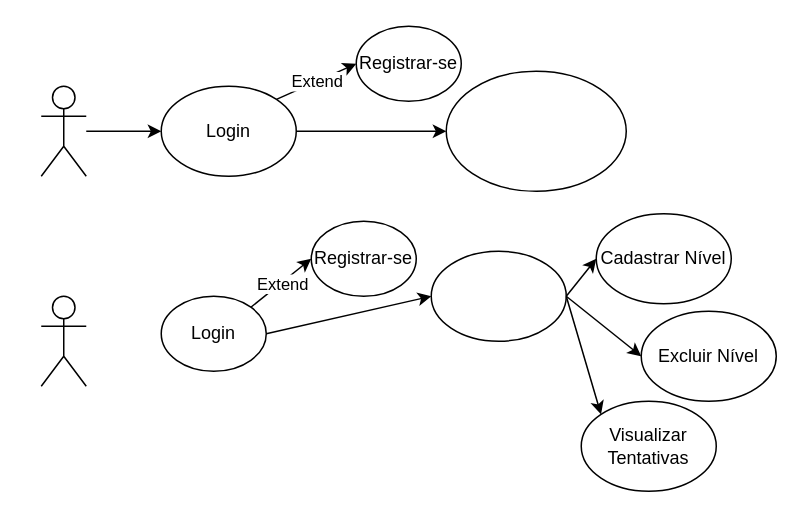
Image size: 803x518. Some labels were removed from this diagram. Here are the shapes that lost their labels. From the top down, the centre of each, then its label:
the point at 63,130: Aluno
the point at 535,130: Realizar Provas
the point at 498,295: Gerenciar Níveis
the point at 63,340: Professor
